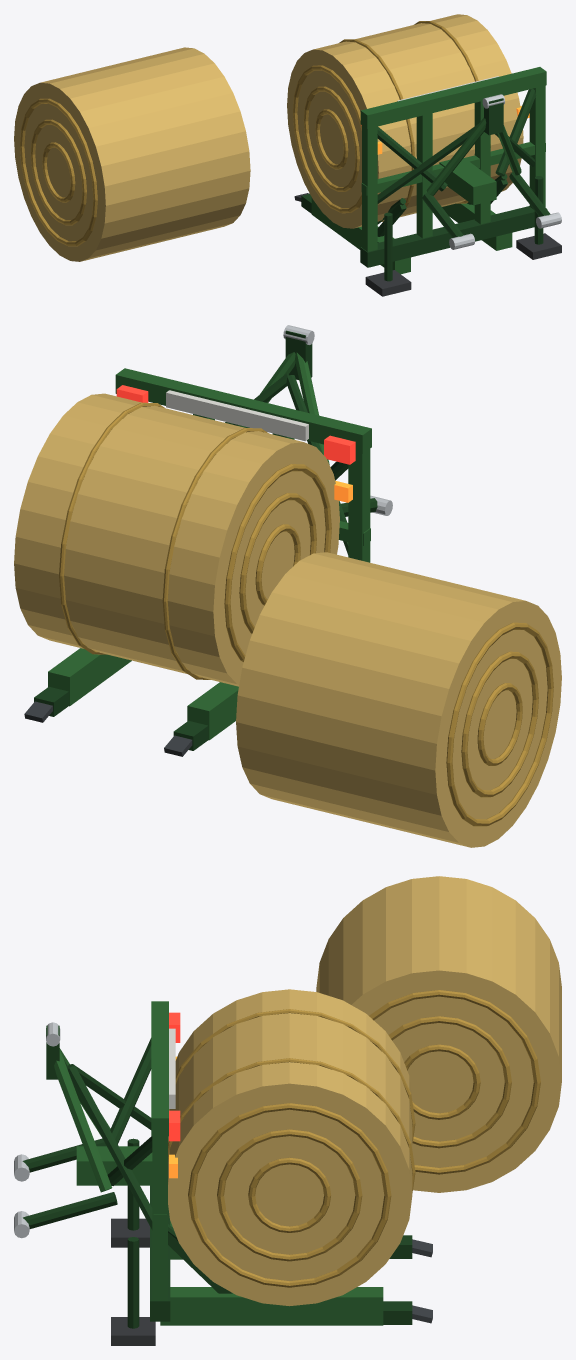
The model's file is bale_fork.glb.
3 renders of one model, top to bottom at view 1: azimuth 30°, elevation 25°; view 2: azimuth 150°, elevation 25°; view 3: azimuth 270°, elevation 25°, orthographic. The views are drawn at different scales.
Visible parts, largest first — view 1: ForkProps, ForkBody; view 2: ForkProps, ForkBody; view 3: ForkProps, ForkBody.
Boxes of the visible parts, <box> form: ForkProps: <box>14,14,523,261</box>; ForkBody: <box>294,67,561,296</box>; ForkProps: <box>14,393,561,847</box>; ForkBody: <box>24,325,392,756</box>; ForkProps: <box>168,876,561,1306</box>; ForkBody: <box>14,1001,432,1345</box>.
Bounding box in the file's own units: 2.64 × 1.28 × 2.46.
